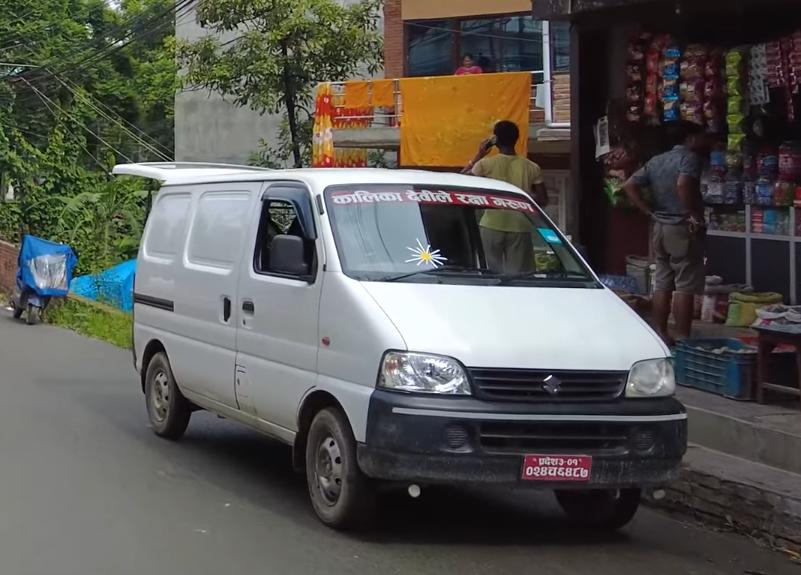van: (121, 158, 687, 530)
